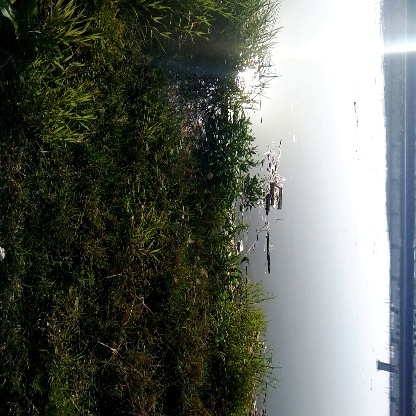grass: (25, 2, 101, 149)
